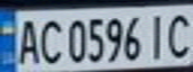0: (63, 15, 87, 64)
5: (84, 14, 106, 63)
6: (121, 11, 148, 62)
9: (103, 12, 127, 63)
A: (12, 15, 42, 66)
C: (163, 8, 193, 60), (36, 16, 63, 65)
I: (145, 10, 172, 60)
